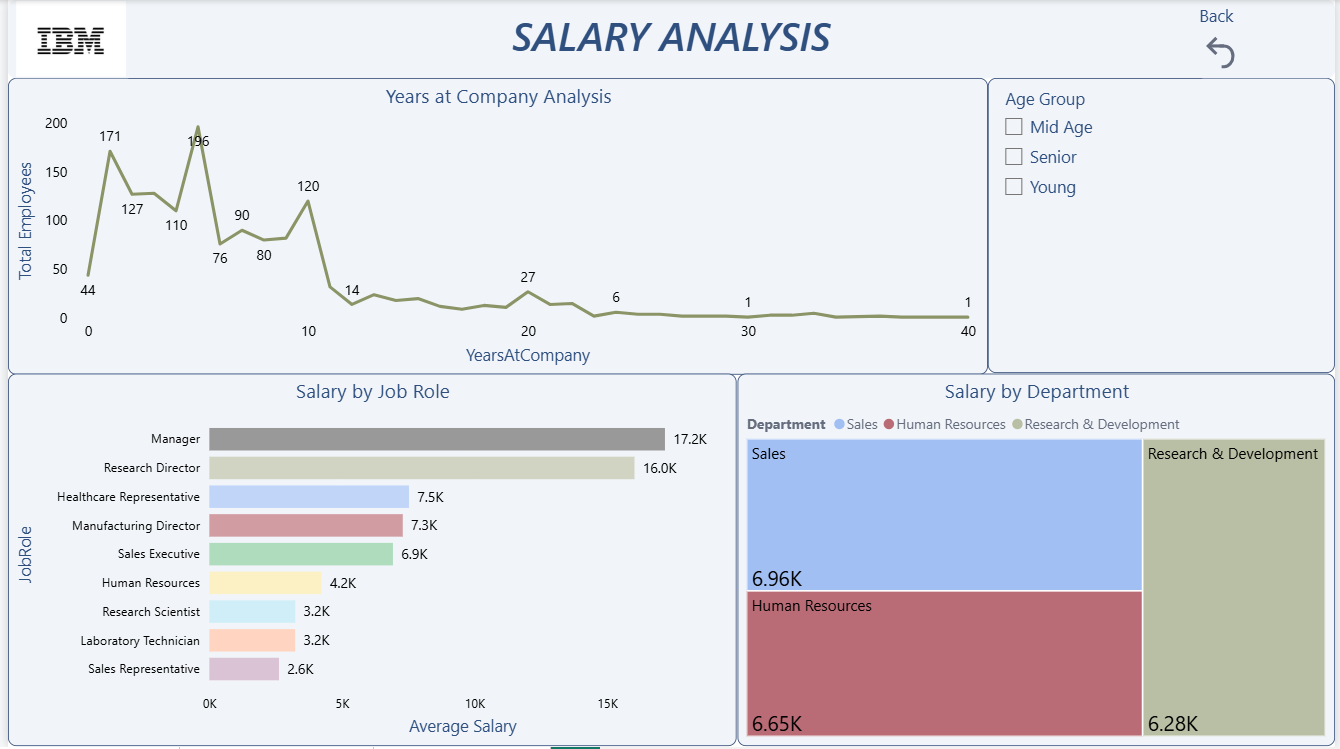

This screenshot's page, from the dashboard's own definition file:
{"tool":"powerbi","page":{"name":"SALARY ANALYSIS","canvas":[1280,720],"ordinal":2},"visuals":[{"type":"textbox","box":[0,0,1280.1,75.2],"z":0},{"type":"lineChart","title":"Years at Company Analysis","fields":{"Category":["hr_employees.YearsAtCompany"],"Y":["hr_employees.total_employees"]},"box":[0,75.2,945.2,286.3],"z":1000},{"type":"treemap","title":"Salary by Department","fields":{"Group":["hr_employees.Department"],"Values":["hr_employees.Average Salary"]},"box":[703.7,360.4,576.3,359.1],"z":2000},{"type":"clusteredBarChart","title":"Salary by Job Role","fields":{"Category":["hr_employees.JobRole"],"Y":["hr_employees.Average Salary"]},"box":[0,360.4,702.5,359.1],"z":3000},{"type":"slicer","fields":{"Values":["hr_employees.Age Group"]},"box":[945,75,335,285],"z":3001},{"type":"actionButton","title":"Back","box":[1145.4,0,134.7,75.2],"z":3003},{"type":"image","box":[0,0,122.5,75.2],"z":3004}]}

Visuals, with their boxes in screenshot pixels (x1, y1, x2, y2), scaled from the page's 1280x720 canvas onto the 1340x749 screenshot:
textbox: (0, 0, 1339, 78)
"Years at Company Analysis" lineChart: (0, 78, 990, 376)
"Salary by Department" treemap: (737, 375, 1339, 748)
"Salary by Job Role" clusteredBarChart: (0, 375, 735, 748)
slicer - hr_employees.Age Group: (989, 78, 1339, 374)
"Back" actionButton: (1199, 0, 1339, 78)
image: (0, 0, 128, 78)
